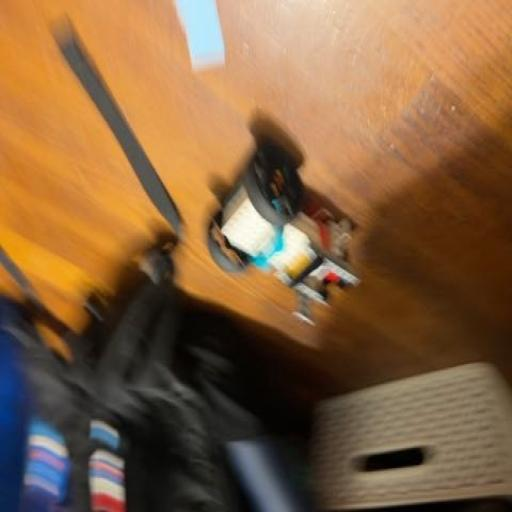Opponent: (199, 158, 366, 334)
